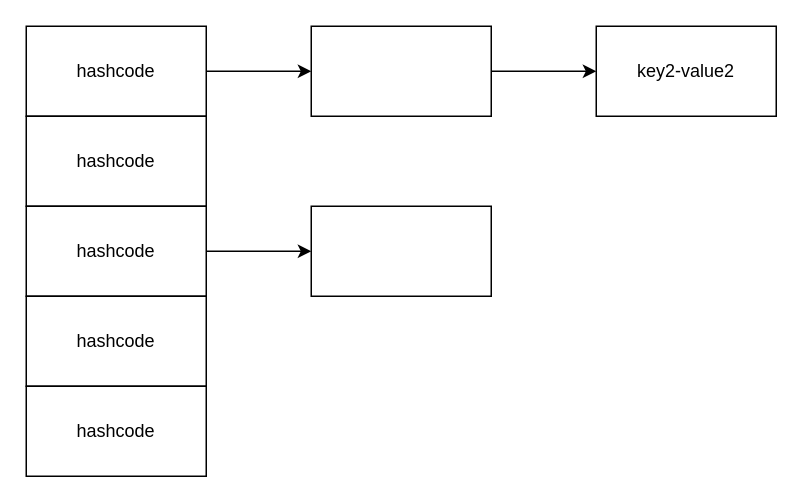
The diagram is 803 pixels wide and 503 high, and some of its shapes have lost their labels. The shapes that lost their labels are listed below. From the top down, each one's box as (x1, y1, x2, y2) in pixels, then its label:
(310, 25, 491, 116): key1-value1
(310, 205, 491, 296): key3-value3
